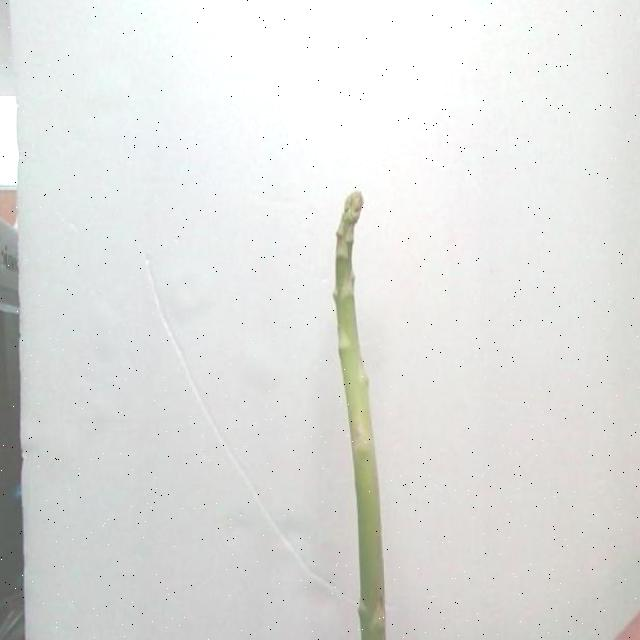aspargus: (335, 192, 389, 640)
